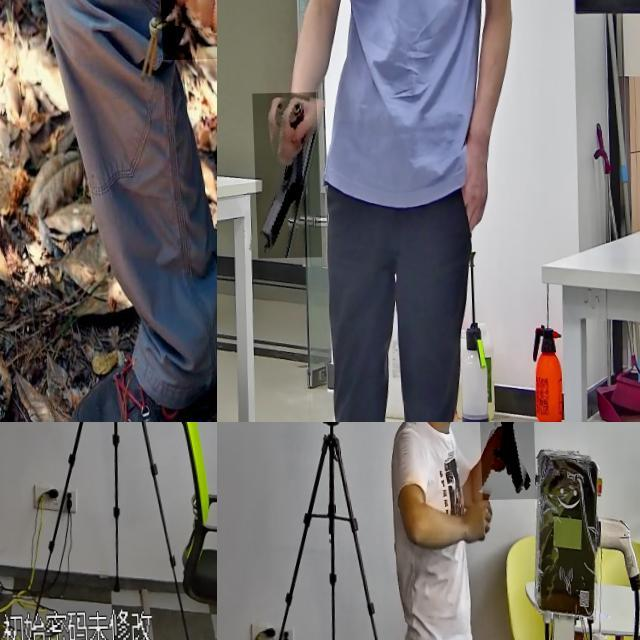gun-knife-thesis - v11 Yolov5 augmented: (250, 93, 318, 259), (477, 422, 534, 502)
